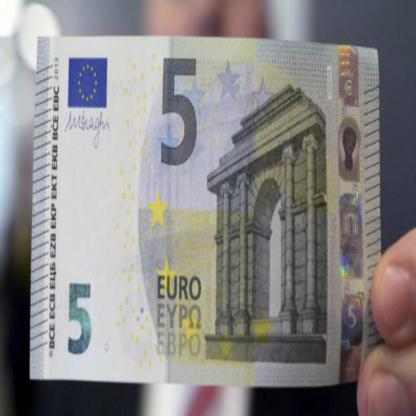billete: (27, 35, 382, 385)
